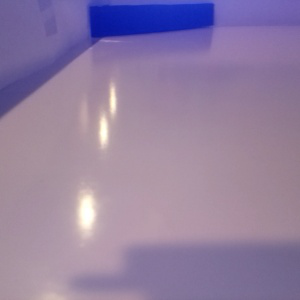zone: (89, 2, 215, 40)
